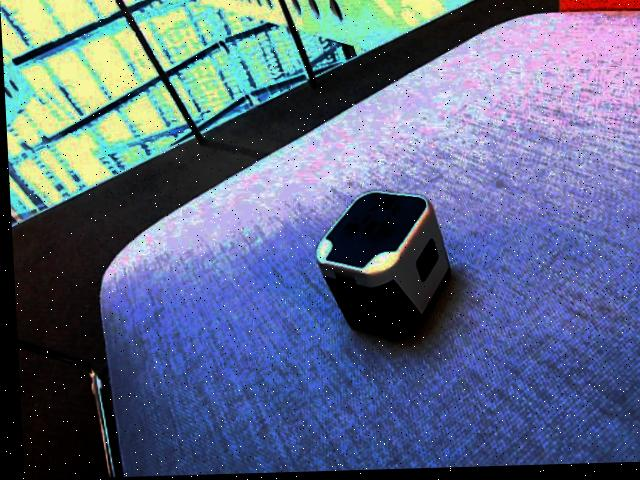adapter: (309, 192, 450, 343)
